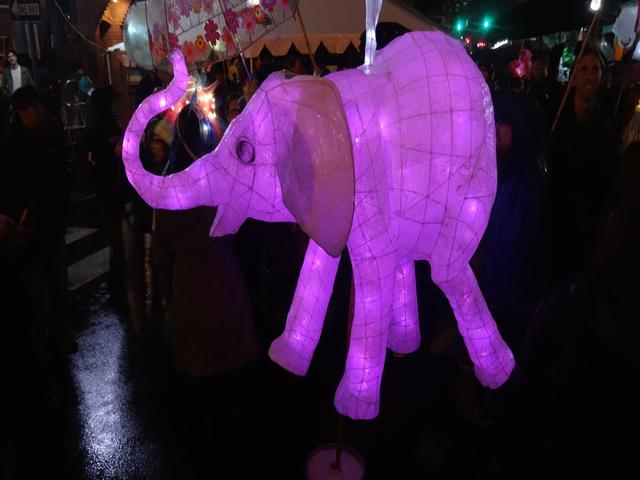elephant: (102, 29, 560, 416)
